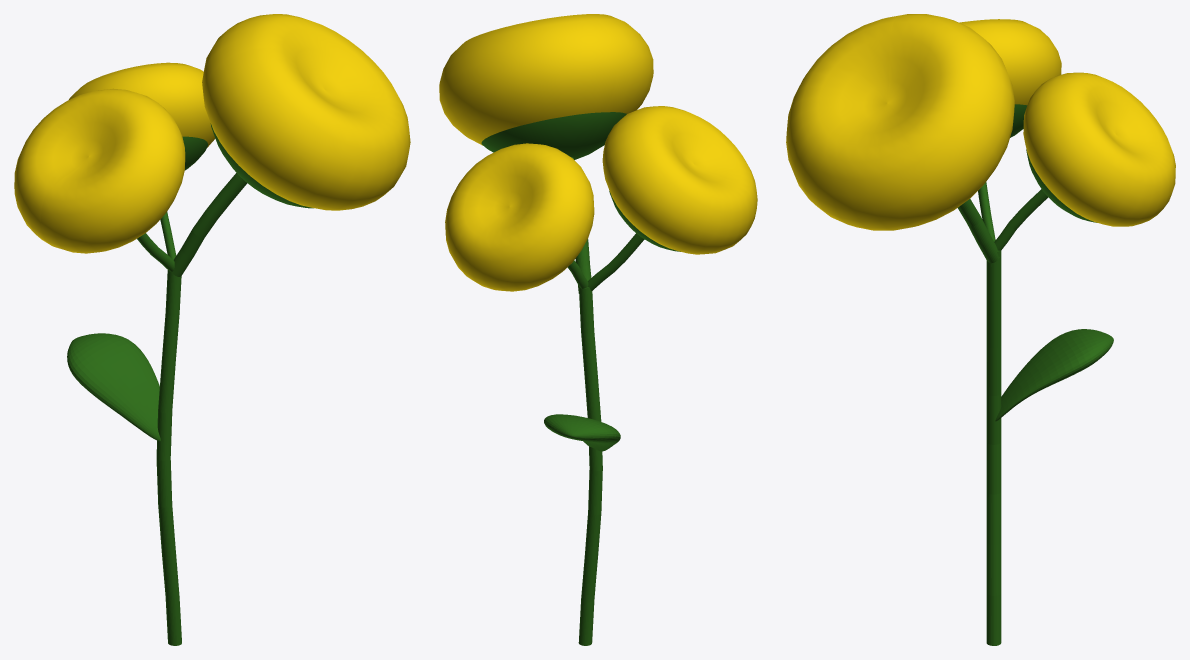
3 renders of one model, left to right at view 1: azimuth 30°, elevation 25°; view 2: azimuth 150°, elevation 25°; view 3: azimuth 270°, elevation 25°, orthographic. The views are drawn at different scales.
Visible parts, largest first — view 1: f06; view 2: f06; view 3: f06.
Boxes of the visible parts, bbox=[...] form: f06: bbox=[14, 14, 410, 645]; f06: bbox=[439, 14, 757, 645]; f06: bbox=[786, 14, 1175, 645].
Bounding box in the file's own units: 0.3321 × 0.5846 × 0.3182.
